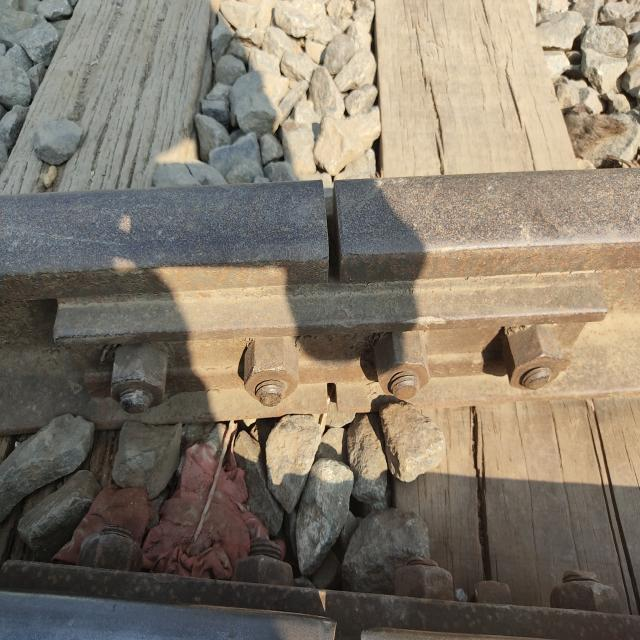defective: (223, 165, 472, 338)
